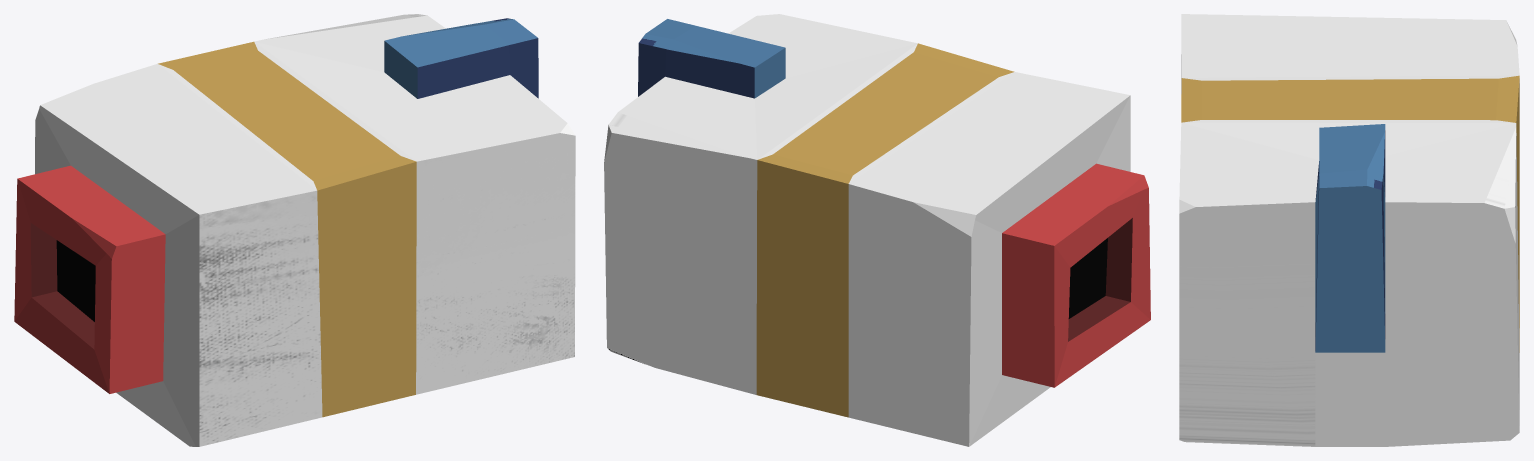
Rendered from ship_gyro.fbx.
The picture shows the model from 3 angles, left to right: view 1: azimuth 30°, elevation 25°; view 2: azimuth 150°, elevation 25°; view 3: azimuth 270°, elevation 25°; orthographic projection. The views are drawn at different scales.
Visible parts, largest first — view 1: Cube; view 2: Cube; view 3: Cube.
Part boxes in pixels (x1,y1,x2,y2): Cube: (14,14,575,446); Cube: (604,14,1150,446); Cube: (1179,14,1519,446).
Size of the model in its own units: 466 by 261 by 291.
